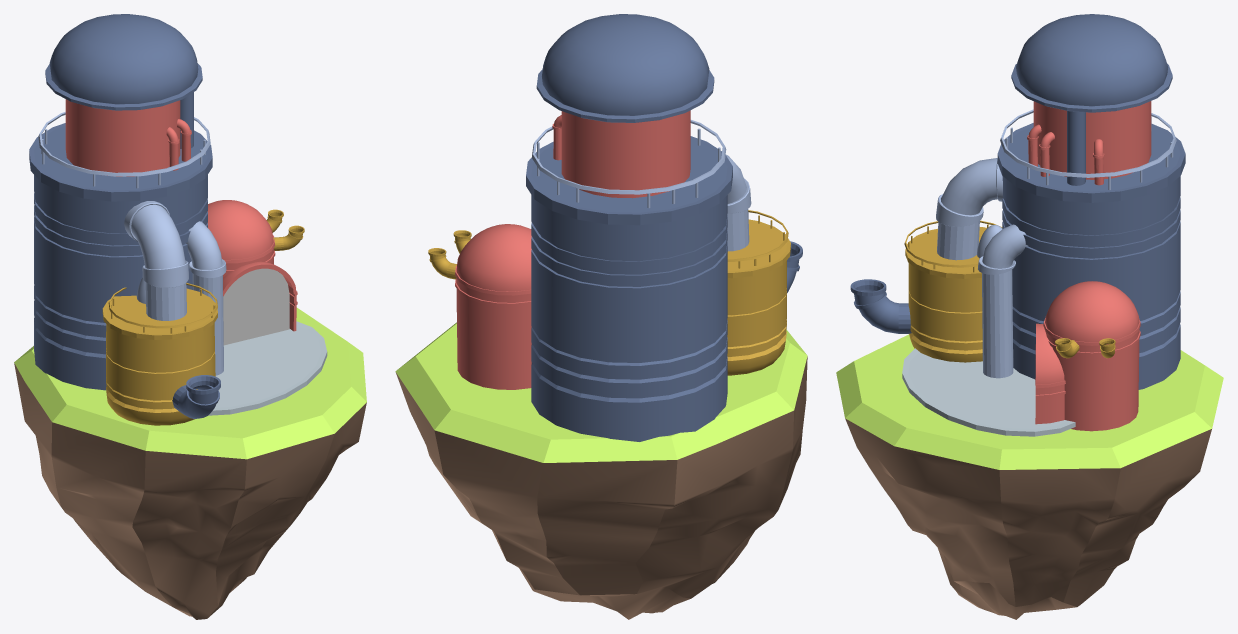
File: savezon_1.fbx
3 renders of one model, left to right at view 1: azimuth 30°, elevation 25°; view 2: azimuth 150°, elevation 25°; view 3: azimuth 270°, elevation 25°, orthographic. The views are drawn at different scales.
Visible parts, largest first — view 1: Jump_Map_Tiles_1, pCylinder1, pSphere3, pasted__pSphere2, pCylinder3, pCylinder2, pTorus1, pCube1, pSphere2, pTorus2, pTorus3, pasted__pSphere4 (×2) (+3 smaller); view 2: Jump_Map_Tiles_1, pCylinder1, pSphere3, pSphere2, pCylinder3, pasted__pSphere2, pTorus1, pSphere4, pasted__pTorus3; view 3: Jump_Map_Tiles_1, pCylinder1, pSphere3, pSphere2, pCylinder2, pasted__pSphere2, pCylinder3, pTorus2, pTorus1, pasted__pSphere4, pTorus3, pCylinder4 (+1 smaller).
Boxes of the visible parts, x1=… form: Jump_Map_Tiles_1: x1=14, y1=307, x2=366, y2=619; pCylinder1: x1=29, y1=123, x2=212, y2=390; pSphere3: x1=45, y1=14, x2=202, y2=110; pasted__pSphere2: x1=102, y1=288, x2=217, y2=425; pCylinder3: x1=65, y1=99, x2=180, y2=176; pCylinder2: x1=208, y1=321, x2=327, y2=415; pTorus1: x1=124, y1=201, x2=188, y2=320; pCube1: x1=223, y1=268, x2=289, y2=345; pSphere2: x1=207, y1=200, x2=275, y2=277; pTorus2: x1=186, y1=221, x2=226, y2=375; pTorus3: x1=172, y1=375, x2=220, y2=418; pasted__pSphere4 (×2): x1=108, y1=261, x2=297, y2=331; Jump_Map_Tiles_1: x1=395, y1=322, x2=807, y2=619; pCylinder1: x1=526, y1=136, x2=732, y2=441; pSphere3: x1=536, y1=14, x2=714, y2=122; pSphere2: x1=455, y1=224, x2=531, y2=389; pCylinder3: x1=561, y1=110, x2=690, y2=198; pasted__pSphere2: x1=727, y1=219, x2=790, y2=375; pTorus1: x1=725, y1=154, x2=751, y2=251; pSphere4: x1=531, y1=120, x2=726, y2=194; pasted__pTorus3: x1=428, y1=248, x2=456, y2=279; Jump_Map_Tiles_1: x1=836, y1=334, x2=1223, y2=619; pCylinder1: x1=997, y1=123, x2=1185, y2=389; pSphere3: x1=1011, y1=14, x2=1172, y2=112; pSphere2: x1=1043, y1=281, x2=1140, y2=431; pCylinder2: x1=902, y1=348, x2=1075, y2=436; pasted__pSphere2: x1=905, y1=227, x2=986, y2=362; pCylinder3: x1=1033, y1=101, x2=1151, y2=179; pTorus2: x1=978, y1=224, x2=1028, y2=378; pTorus1: x1=936, y1=158, x2=1003, y2=260; pasted__pSphere4: x1=1035, y1=323, x2=1065, y2=424; pTorus3: x1=850, y1=279, x2=911, y2=333; pCylinder4: x1=1067, y1=111, x2=1085, y2=185.
Size of the model in its own units: 11.62 by 20.37 by 12.57.
